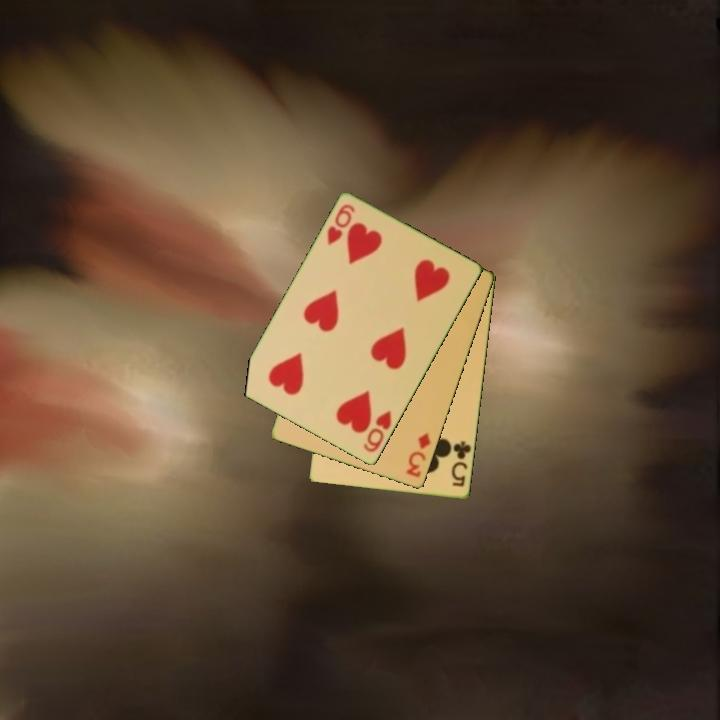3d: (403, 429, 434, 480)
5c: (448, 438, 474, 490)
6h: (360, 407, 395, 456), (323, 201, 358, 248)
